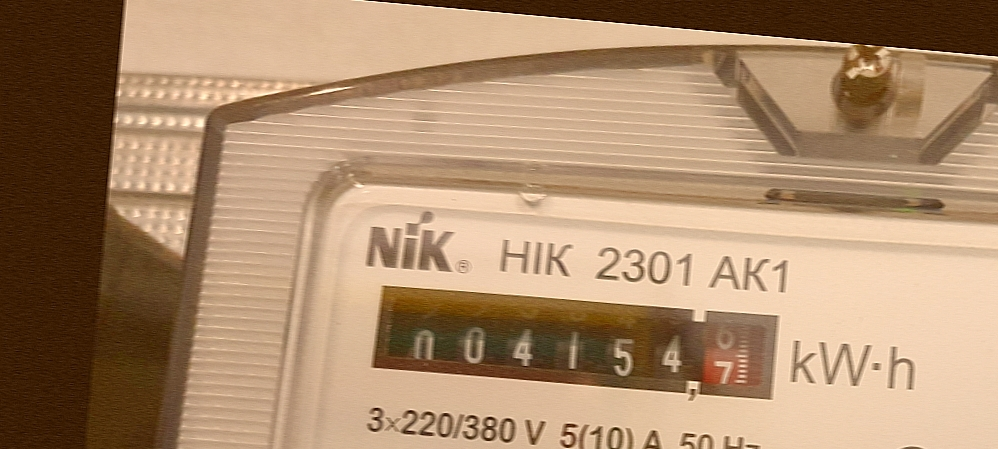0: (460, 323, 486, 366), (410, 324, 436, 360)
1: (564, 328, 581, 371)
4: (509, 325, 535, 368), (659, 329, 683, 375)
5: (609, 332, 637, 378)
6: (713, 320, 737, 351)
7: (710, 356, 733, 386)
screen: (354, 264, 796, 418)
